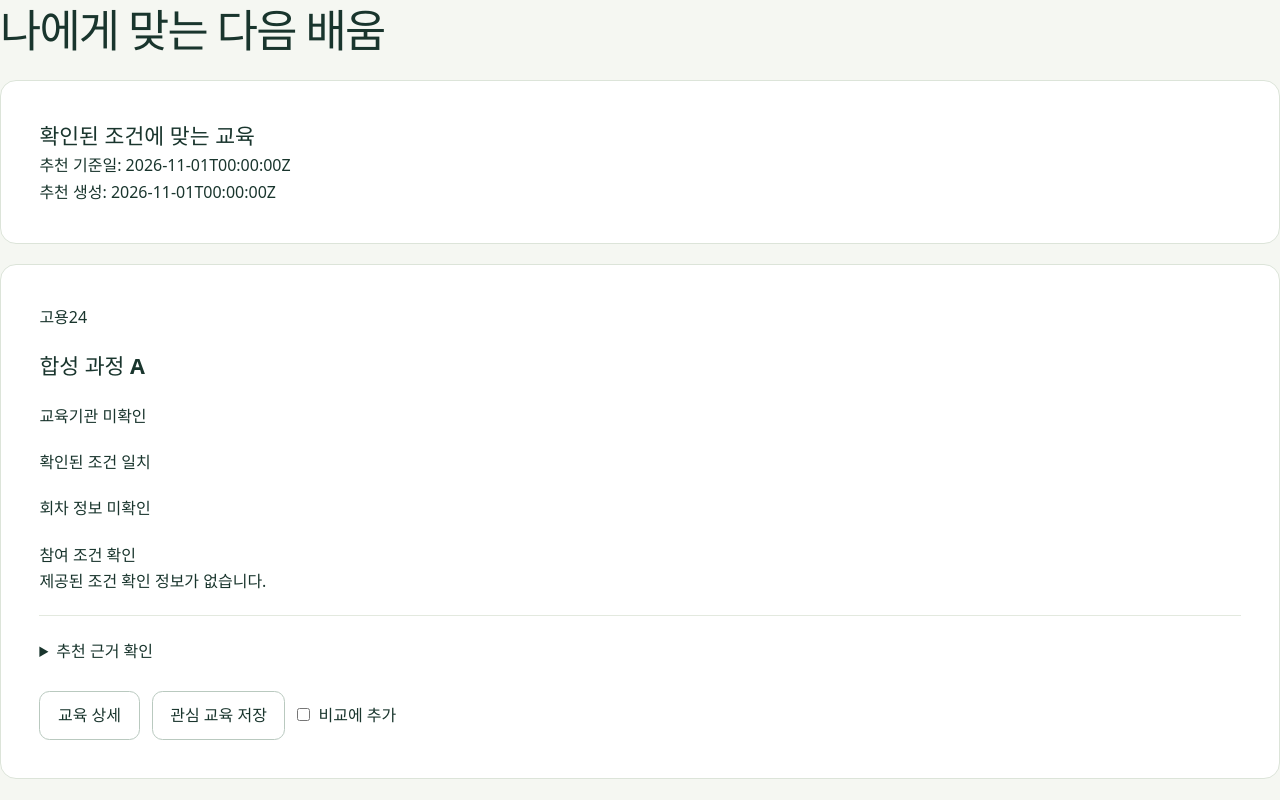
Test: 관심 저장·해제 요청과 상태 › CSRF가 없으면 저장 요청을 전송하거나 성공으로 표시하지 않는다
Expected: the heading "합성 과정 A" is shown, [39,351,145,380]
Click the button "관심 교육 저장" at coordinates (218, 715), box [152,691,285,740]
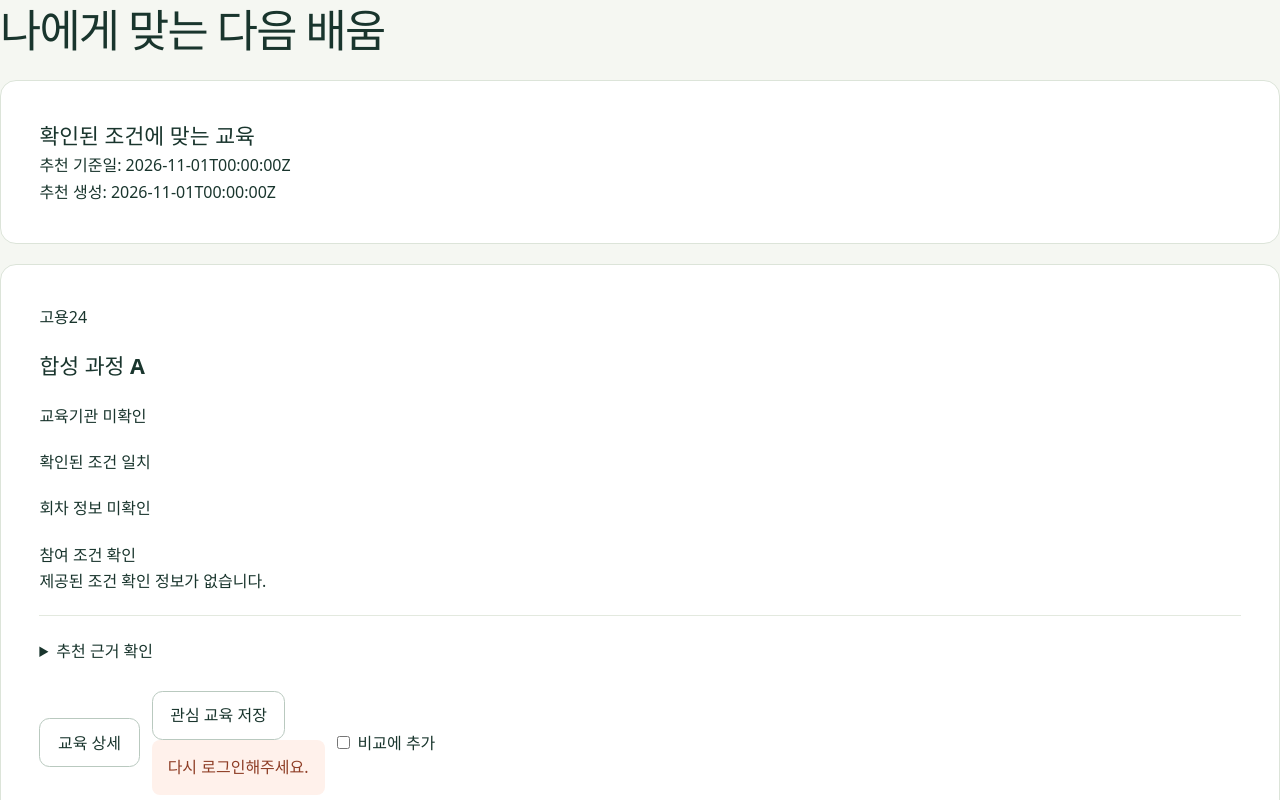
Expected: the message shows "다시 로그인해주세요", [168,756,308,778]
